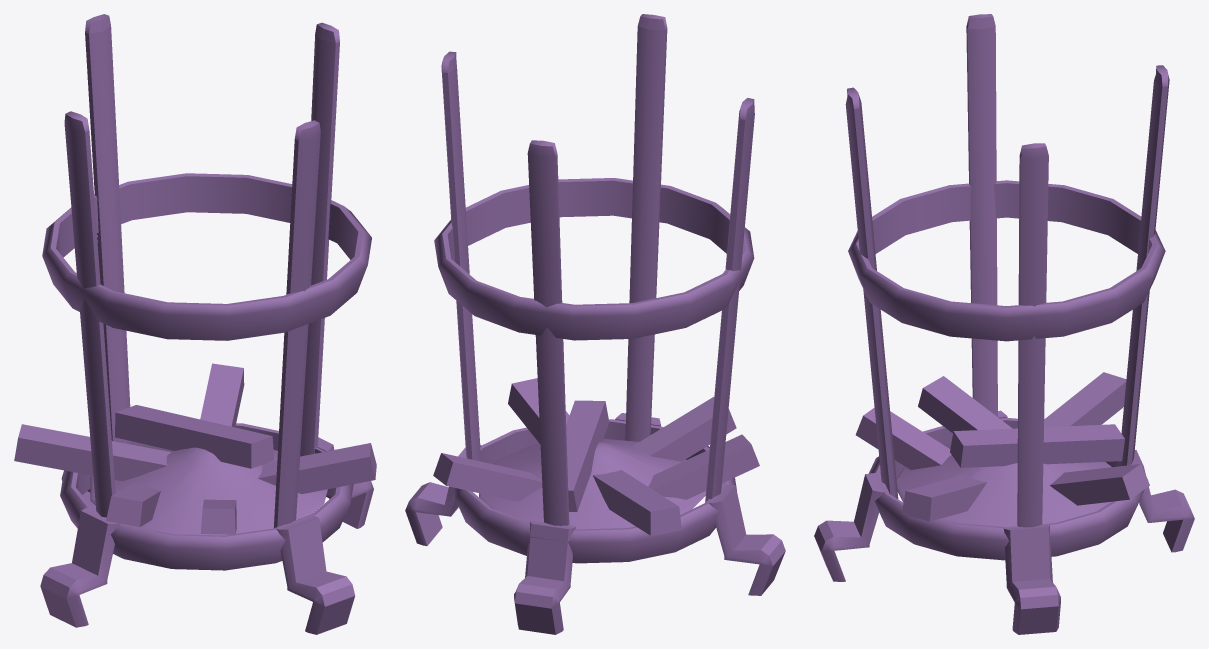
File: Brazier_Lod0.fbx
The picture shows the model from 3 angles, left to right: view 1: azimuth 30°, elevation 25°; view 2: azimuth 150°, elevation 25°; view 3: azimuth 270°, elevation 25°; orthographic projection. The views are drawn at different scales.
Visible parts, largest first — view 1: Brazier_Lod0; view 2: Brazier_Lod0; view 3: Brazier_Lod0.
Part boxes in pixels (box(x1,y1,x2,y2)): Brazier_Lod0: box(14, 14, 376, 634); Brazier_Lod0: box(405, 14, 785, 634); Brazier_Lod0: box(814, 14, 1194, 634).
Size of the model in its own units: 45.41 by 61.86 by 44.85.
